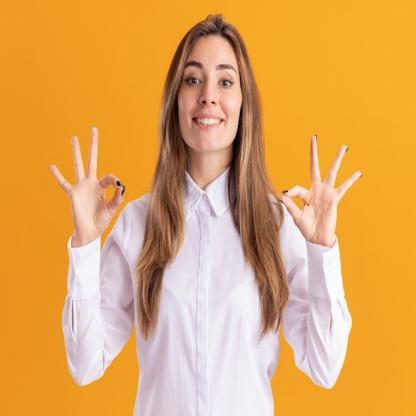ok: (274, 130, 363, 251), (45, 124, 130, 246)
